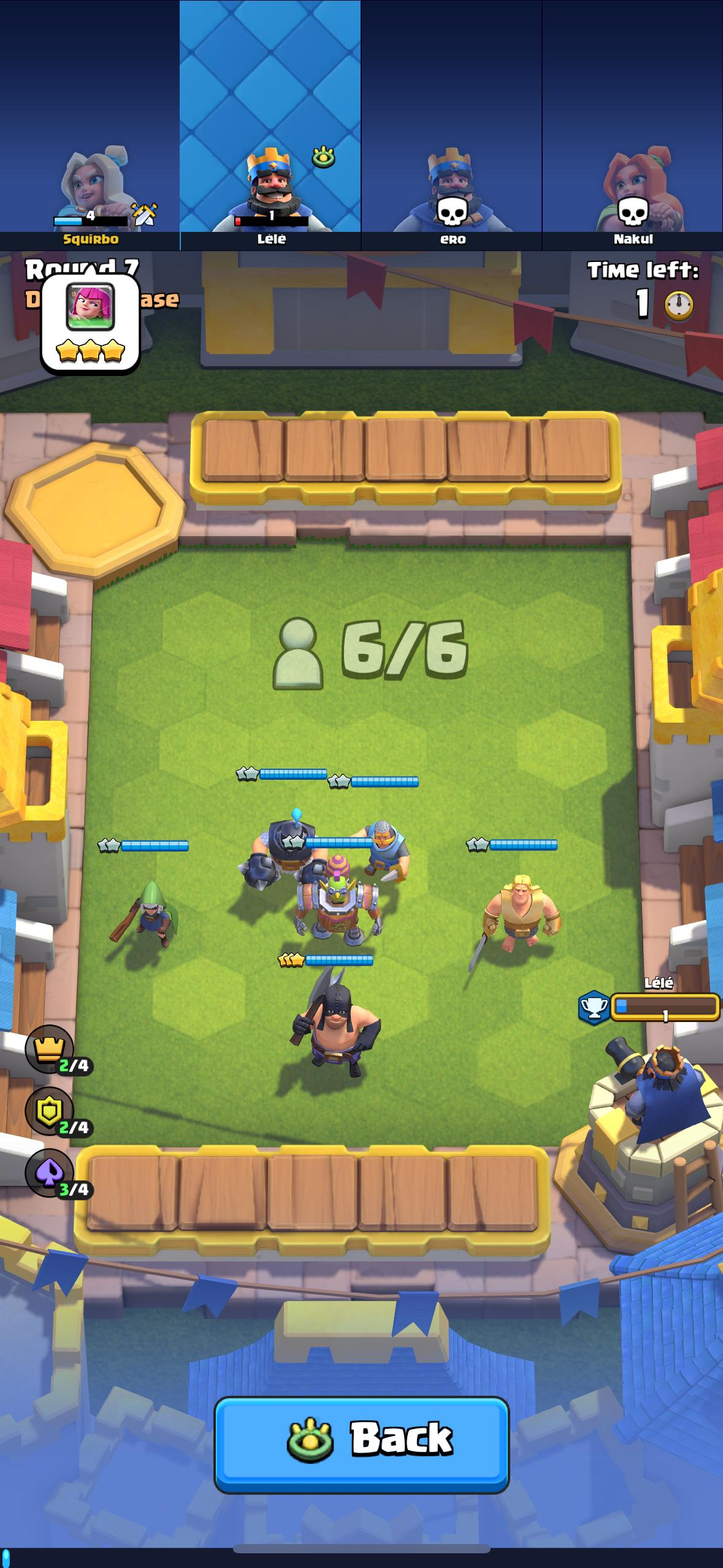bandit: (119, 868, 179, 952)
executioner: (286, 967, 384, 1080)
golden: (468, 868, 563, 951)
knight: (351, 808, 416, 885)
machine: (298, 852, 382, 953)
mega: (235, 800, 333, 891)
